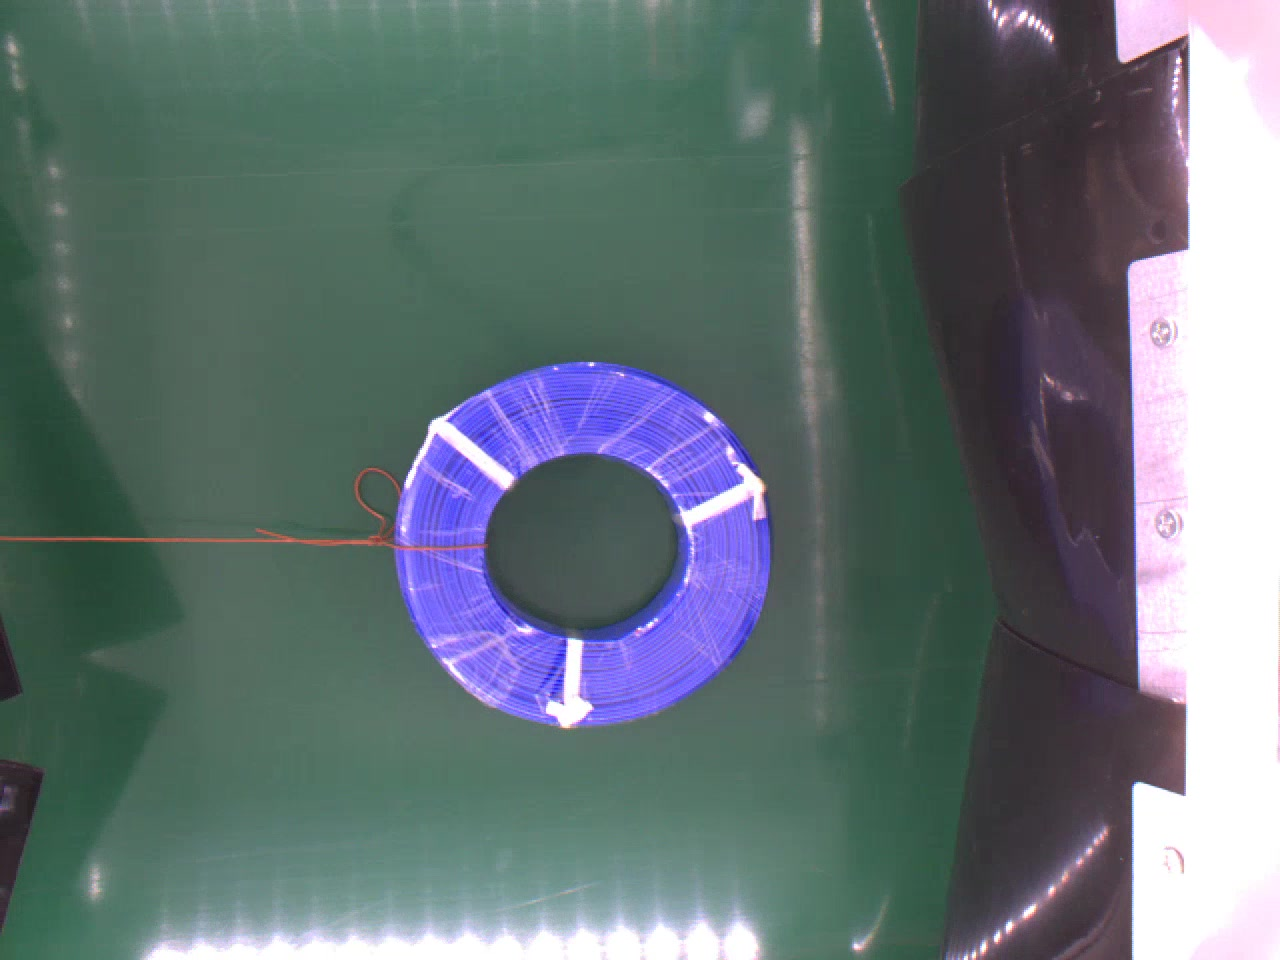blue: (393, 354, 789, 736)
